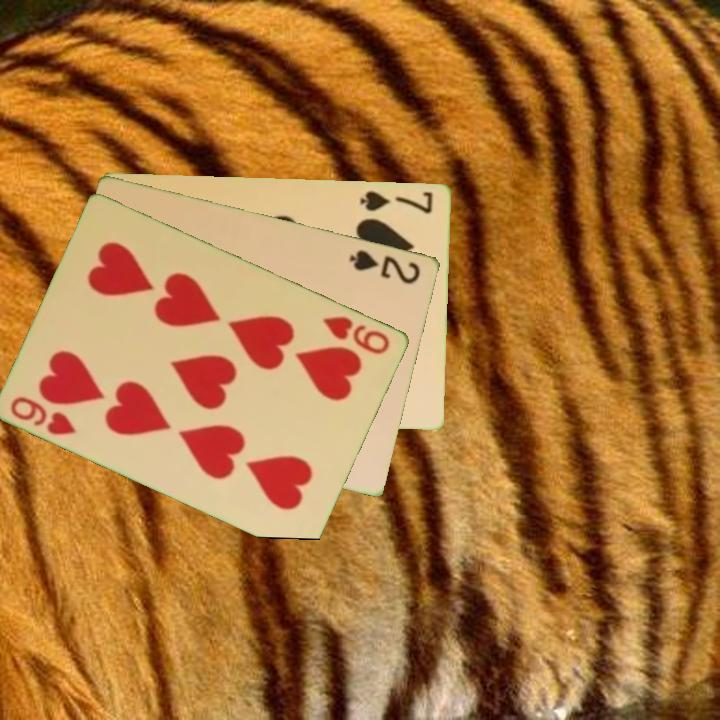2s: (346, 246, 424, 287)
7s: (357, 187, 436, 216)
9h: (7, 392, 81, 438), (319, 312, 394, 357)
